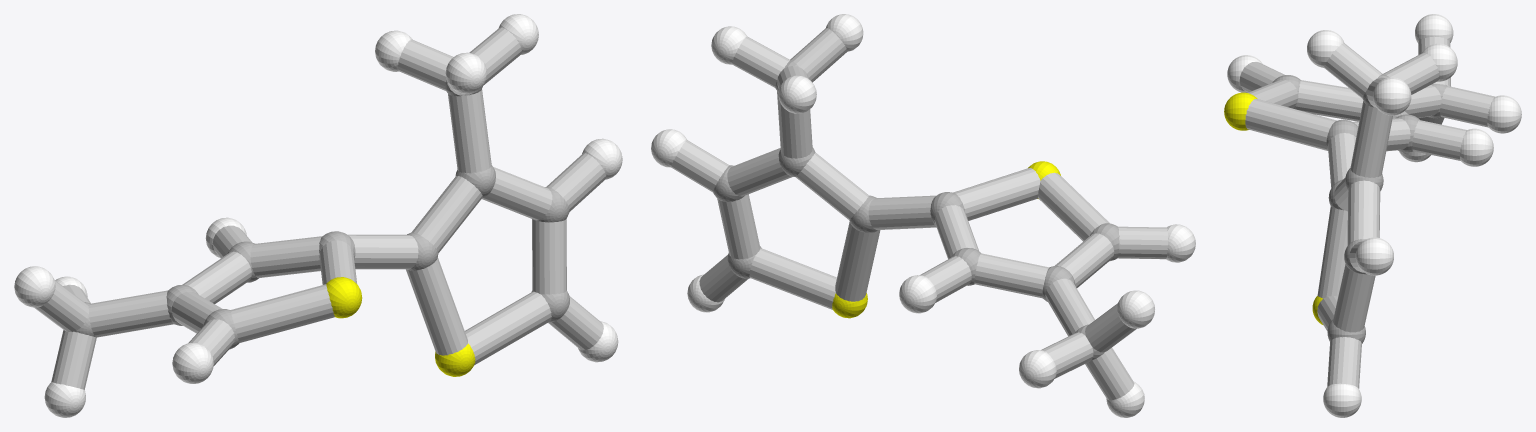
Rendered from color.glb.
3 renders of one model, left to right at view 1: azimuth 30°, elevation 25°; view 2: azimuth 150°, elevation 25°; view 3: azimuth 270°, elevation 25°, orthographic. The views are drawn at different scales.
Parts seen in each view (by area): view 1: grp7965, grp3621, grp1, grp7241; view 2: grp7965, grp3621, grp1, grp7241; view 3: grp7965, grp3621, grp1, grp7241.
Part boxes in pixels (x1,y1,x2,y2): grp7965: [34, 27, 606, 389]; grp3621: [14, 14, 622, 417]; grp1: [74, 80, 569, 349]; grp7241: [326, 277, 475, 376]; grp7965: [671, 28, 1168, 400]; grp3621: [651, 14, 1195, 417]; grp1: [713, 60, 1119, 360]; grp7241: [832, 161, 1060, 318]; grp7965: [1239, 36, 1494, 388]; grp3621: [1227, 14, 1521, 417]; grp1: [1272, 74, 1447, 343]; grp7241: [1224, 92, 1322, 324].
Size of the model in its own units: 9.52 by 5.52 by 4.63.
